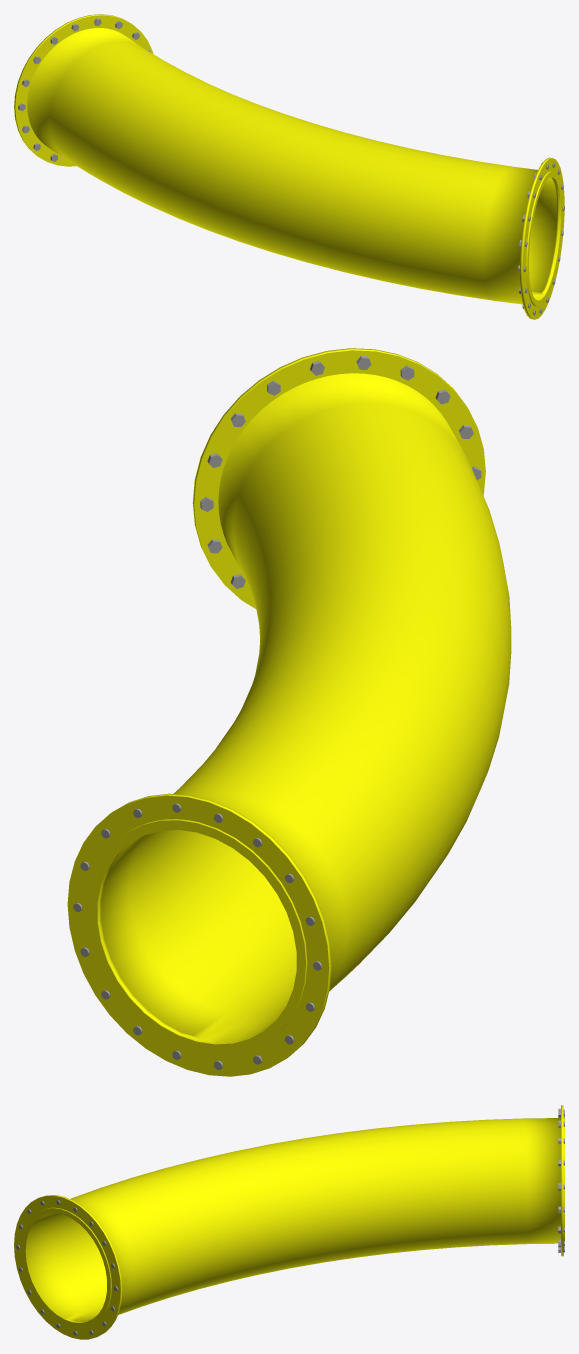
File: bent.dae
The picture shows the model from 3 angles, top to bottom: view 1: azimuth 30°, elevation 25°; view 2: azimuth 150°, elevation 25°; view 3: azimuth 270°, elevation 25°; orthographic projection. The views are drawn at different scales.
Visible parts, largest first — view 1: segment3_bent; view 2: segment3_bent; view 3: segment3_bent.
Part boxes in pixels (x1,y1,x2,y2): segment3_bent: [14, 14, 564, 319]; segment3_bent: [67, 348, 511, 1076]; segment3_bent: [14, 1105, 564, 1339].
Size of the model in its own units: 1.62 by 2.67 by 0.729.
